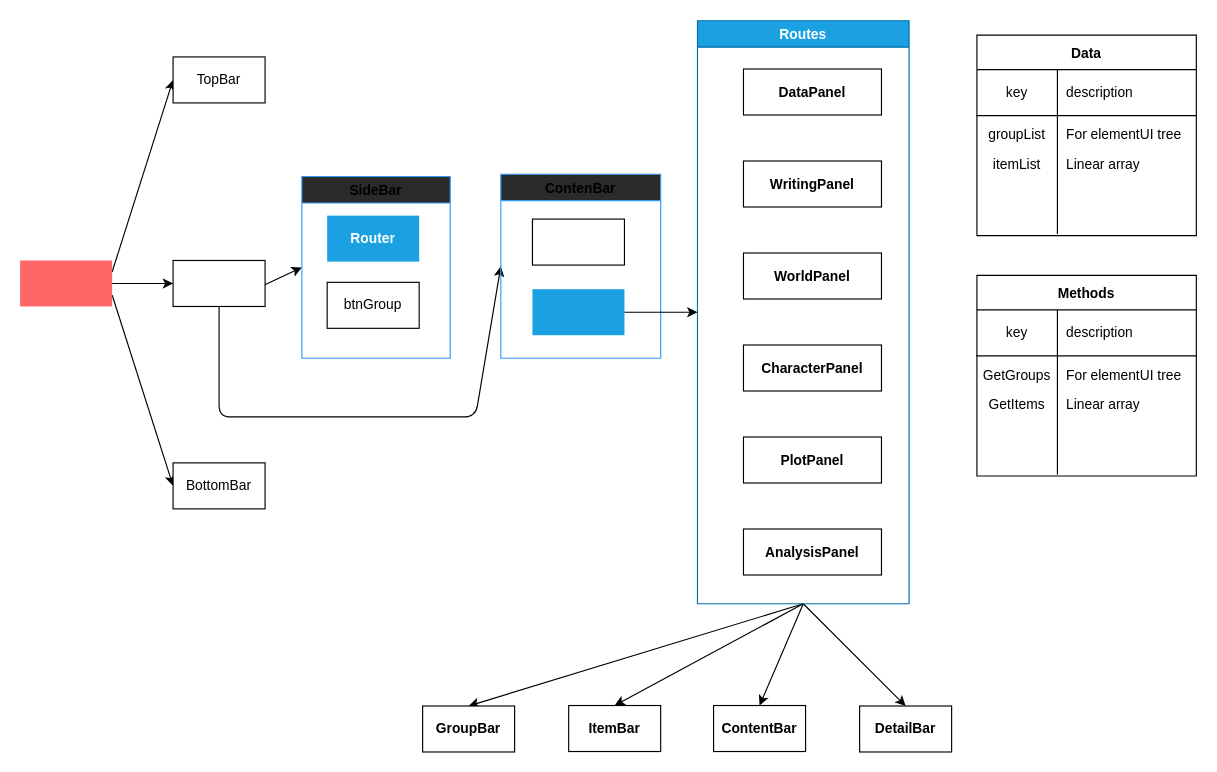
This 1217x772 diagram has some shape labels left out. The centre of each missing label's shape, as x and y in pixels:
App: the point at 66,283
MiddleBar: the point at 218,282
RouterView: the point at 578,312
ToolBar: the point at 577,241
